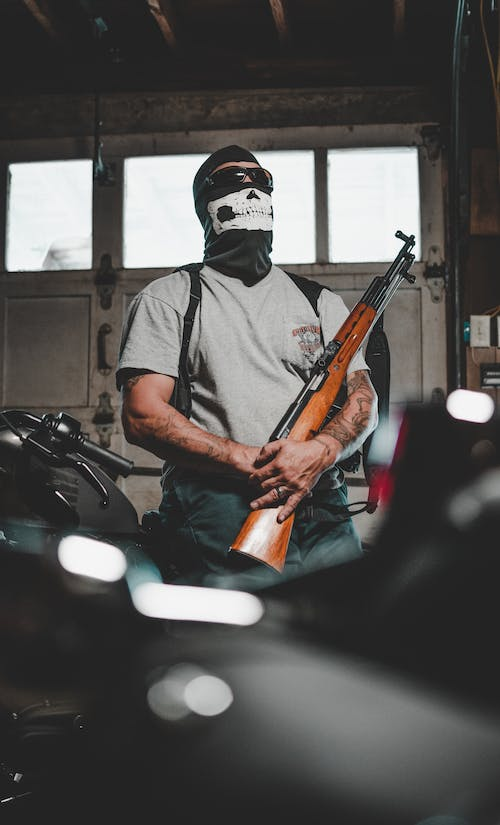gun: (225, 221, 424, 580)
